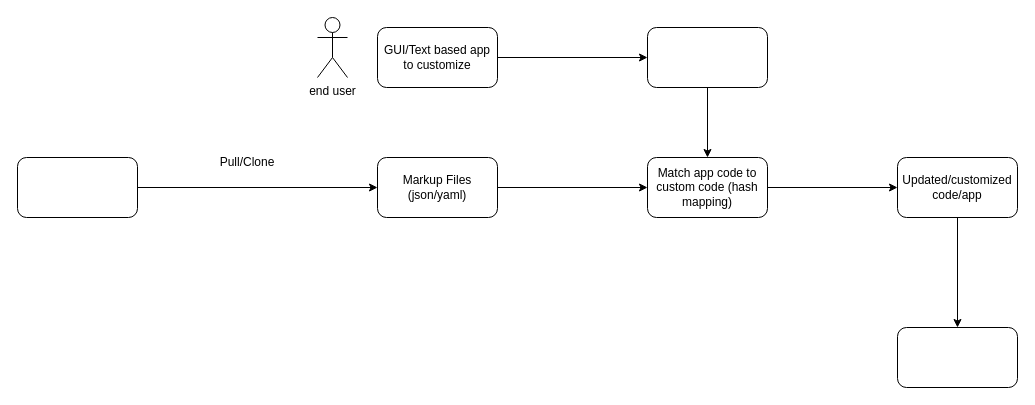
Some shapes in this 1035 by 405 pixel diagram are drawn without their labels. The shapes that lost their labels are listed below. From the top down, each one's centre as x and y in pixels, then its label:
[707,57]: parser
[77,187]: School App Template (PA)
[957,357]: Custom App!!!
